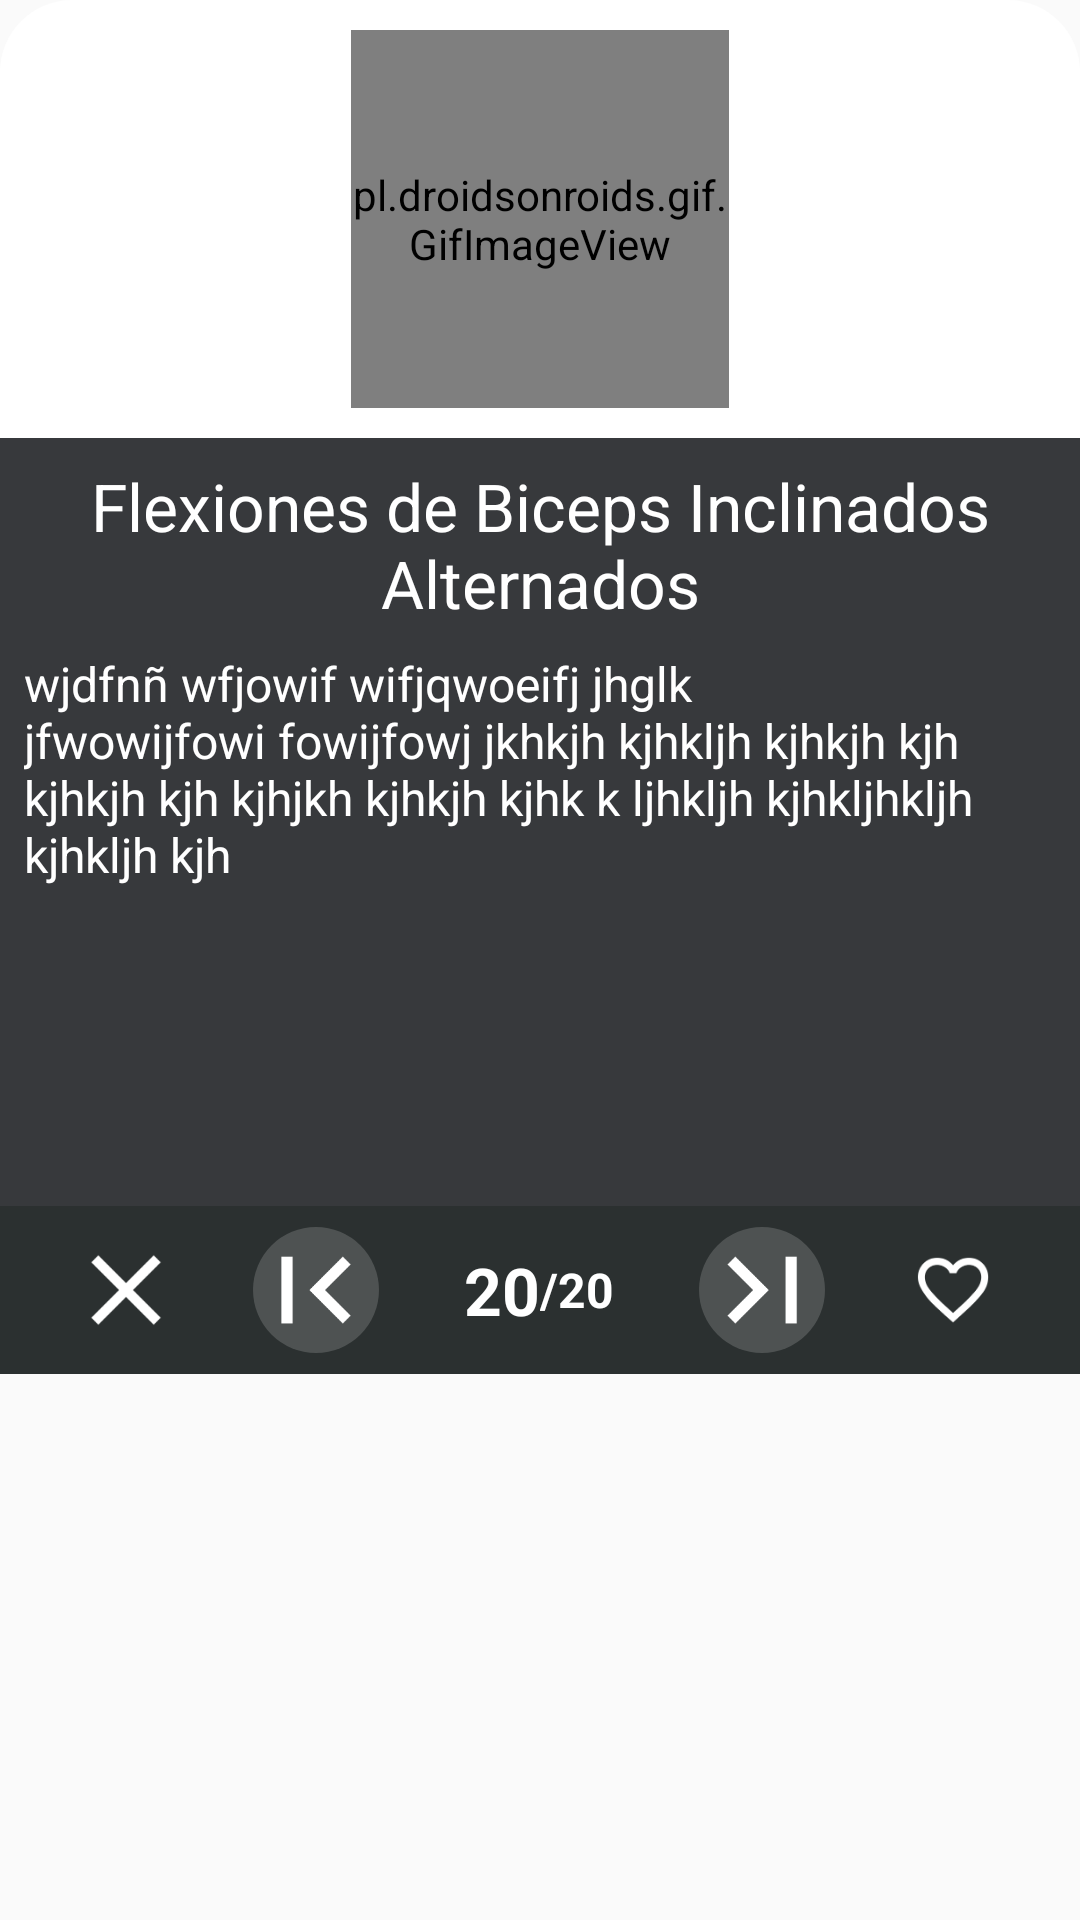

Where icons sit on this 1080*1920 app screen, as region(x1, y1, x2, y2):
close: region(91, 1255, 161, 1325)
favorite border: region(918, 1257, 989, 1323)
first page: region(253, 1227, 379, 1353)
last page: region(699, 1227, 825, 1353)
